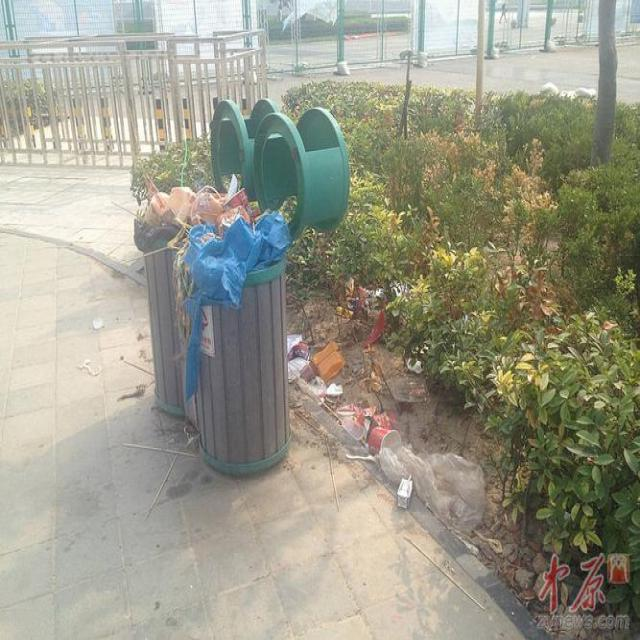garbage: (285, 280, 485, 539)
overflow: (133, 168, 288, 471)
